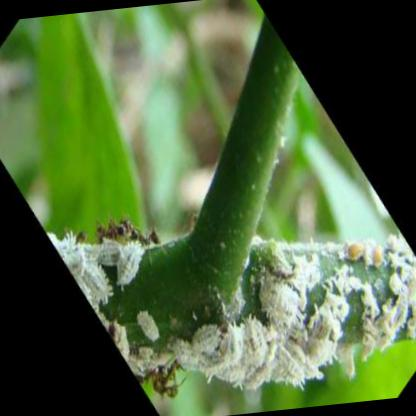mealy bug: (260, 277, 303, 331), (277, 340, 310, 386), (242, 321, 268, 370), (83, 262, 113, 302), (115, 242, 144, 283), (190, 324, 221, 353), (174, 342, 201, 369), (201, 354, 228, 380), (95, 241, 123, 266), (224, 326, 242, 363)
